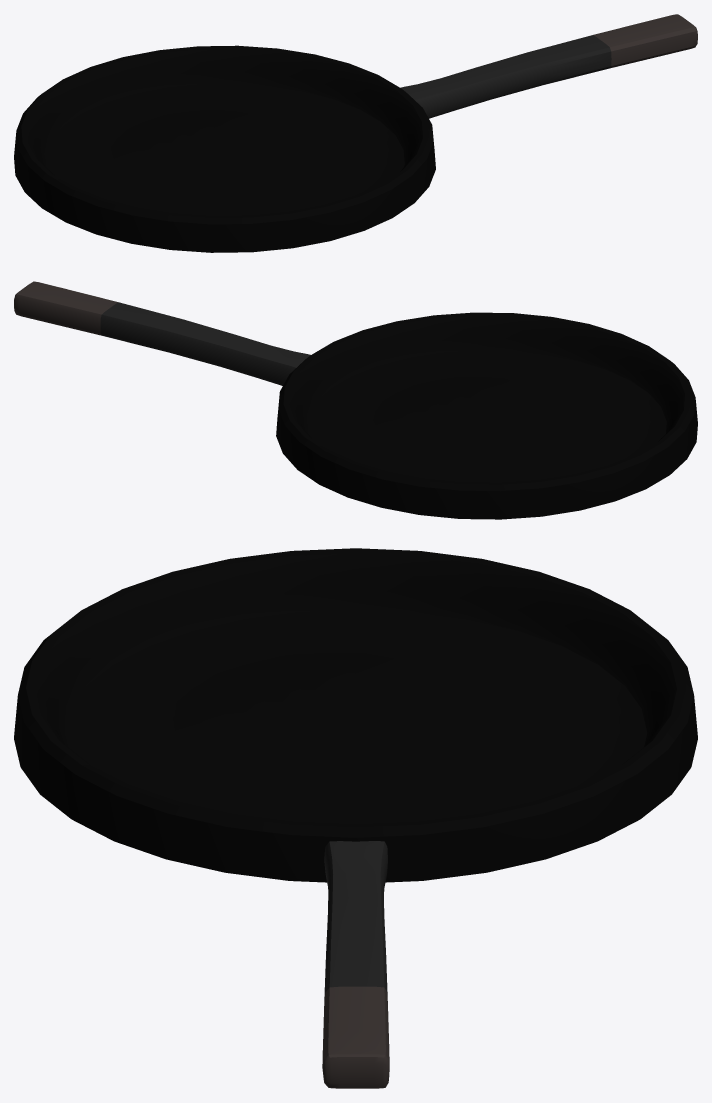
File: HP_pan_1.obj
3 views of the same model, one above another, from view 1: azimuth 30°, elevation 25°; view 2: azimuth 150°, elevation 25°; view 3: azimuth 270°, elevation 25° (orthographic). The views are drawn at different scales.
Visible parts, largest first — view 1: HP_pan_1.001; view 2: HP_pan_1.001; view 3: HP_pan_1.001.
Boxes of the visible parts, x1,y1,x2,y2 form: HP_pan_1.001: [14, 14, 697, 252]; HP_pan_1.001: [14, 281, 697, 519]; HP_pan_1.001: [14, 548, 697, 1088].
Bounding box in the file's own units: 0.4032 × 0.0206 × 0.228.
